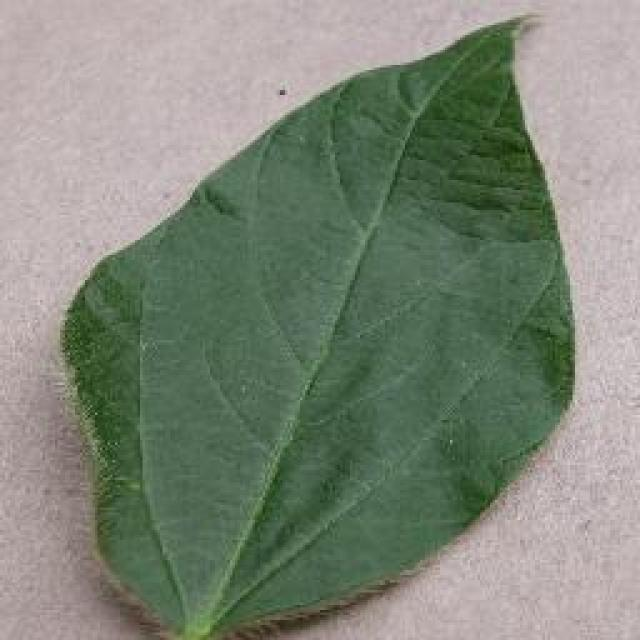Soy_healthy: (57, 128, 544, 551)
